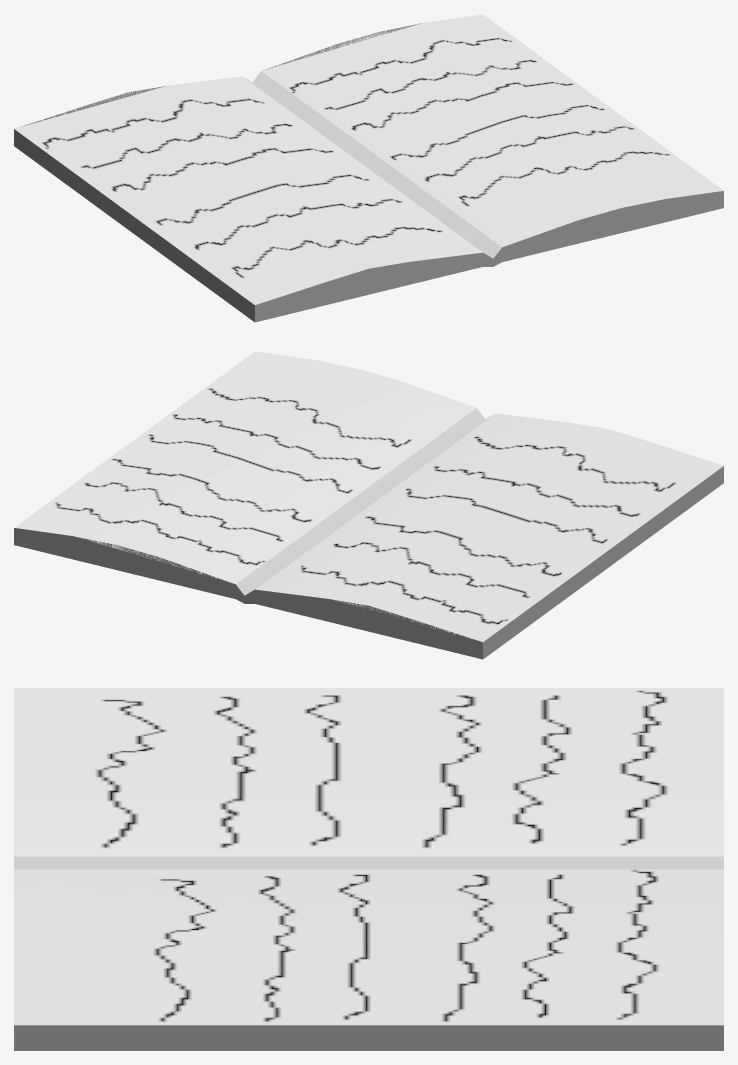
The model's file is Open Book.fbx.
The picture shows the model from 3 angles, top to bottom: view 1: azimuth 30°, elevation 25°; view 2: azimuth 150°, elevation 25°; view 3: azimuth 270°, elevation 25°; orthographic projection. The views are drawn at different scales.
Parts seen in each view (by area): view 1: pCube1; view 2: pCube1; view 3: pCube1.
Part boxes in pixels (left/top/right/bottom): pCube1: left=14, top=14, right=723, bottom=322; pCube1: left=14, top=351, right=723, bottom=659; pCube1: left=14, top=688, right=723, bottom=1050.
Bounding box in the file's own units: 0.6592 × 0.0384 × 0.5865.
4 materials, 1 textured.
